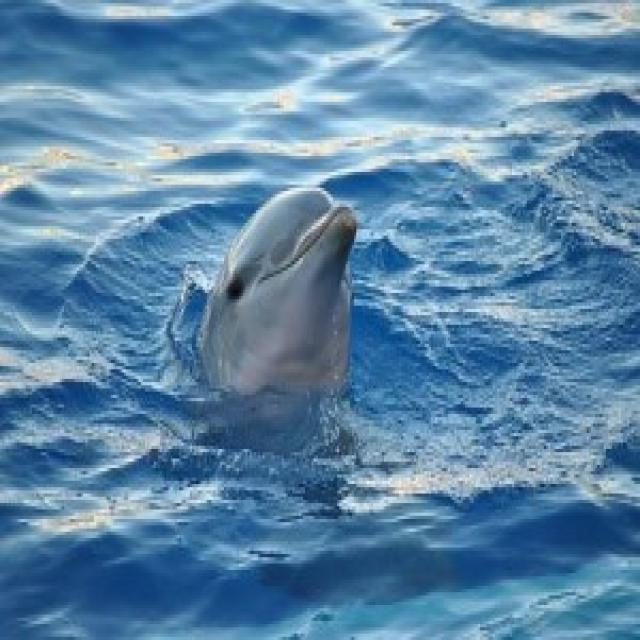Dolphin: (176, 176, 372, 445)
